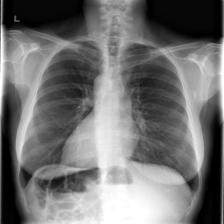normal: (15, 37, 202, 196)
